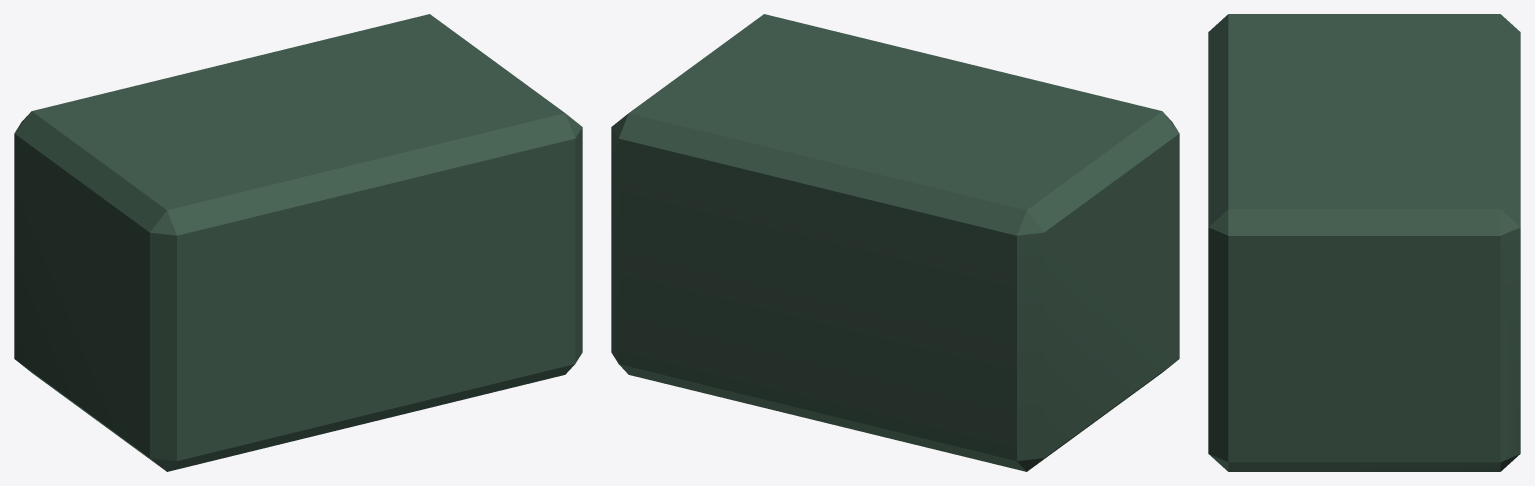
The model's file is storage_box.glb.
3 renders of one model, left to right at view 1: azimuth 30°, elevation 25°; view 2: azimuth 150°, elevation 25°; view 3: azimuth 270°, elevation 25°, orthographic.
Visible parts, largest first — view 1: Military green cases; view 2: Military green cases; view 3: Military green cases.
Boxes of the visible parts, x1,y1,x2,y2 form: Military green cases: (14,14,582,471); Military green cases: (611,14,1179,471); Military green cases: (1208,14,1520,471).
Size of the model in its own units: 0.45 by 0.26 by 0.28.
